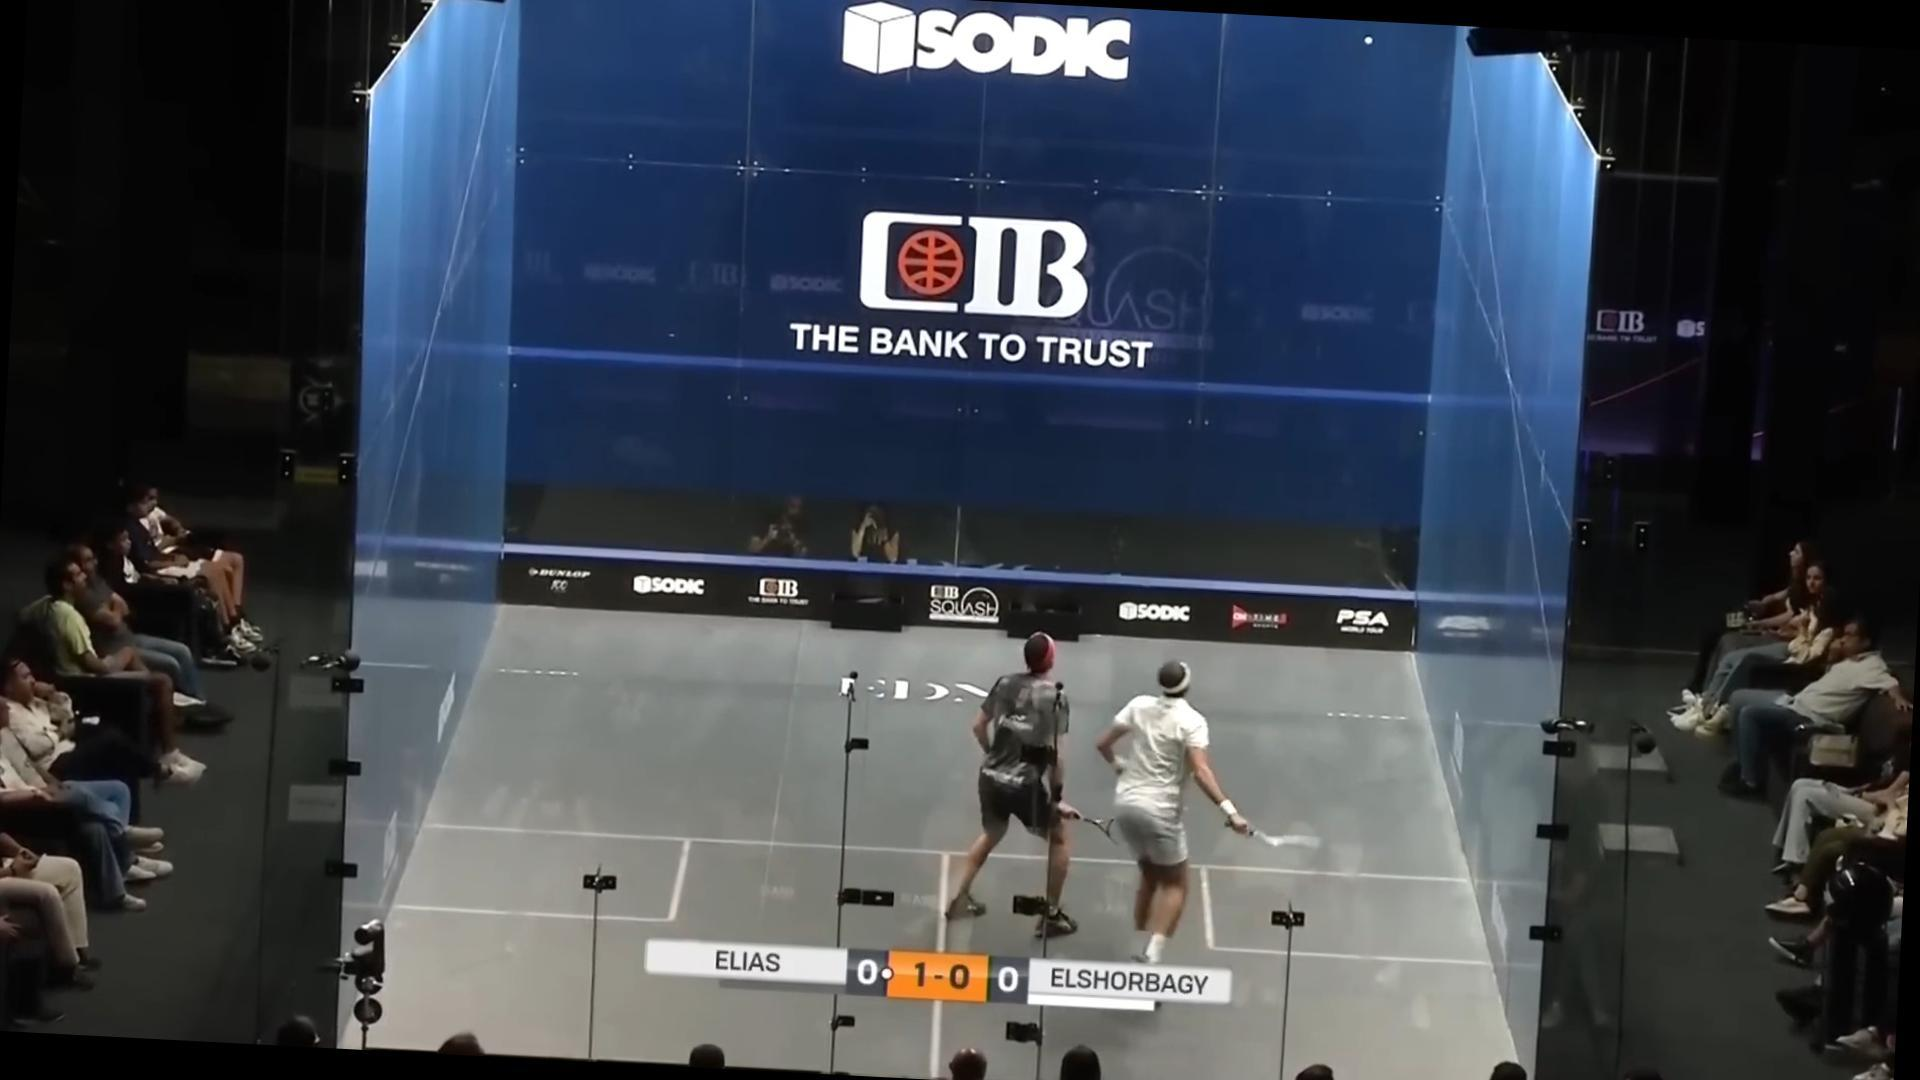Squash-Ball: (1357, 28, 1377, 51)
